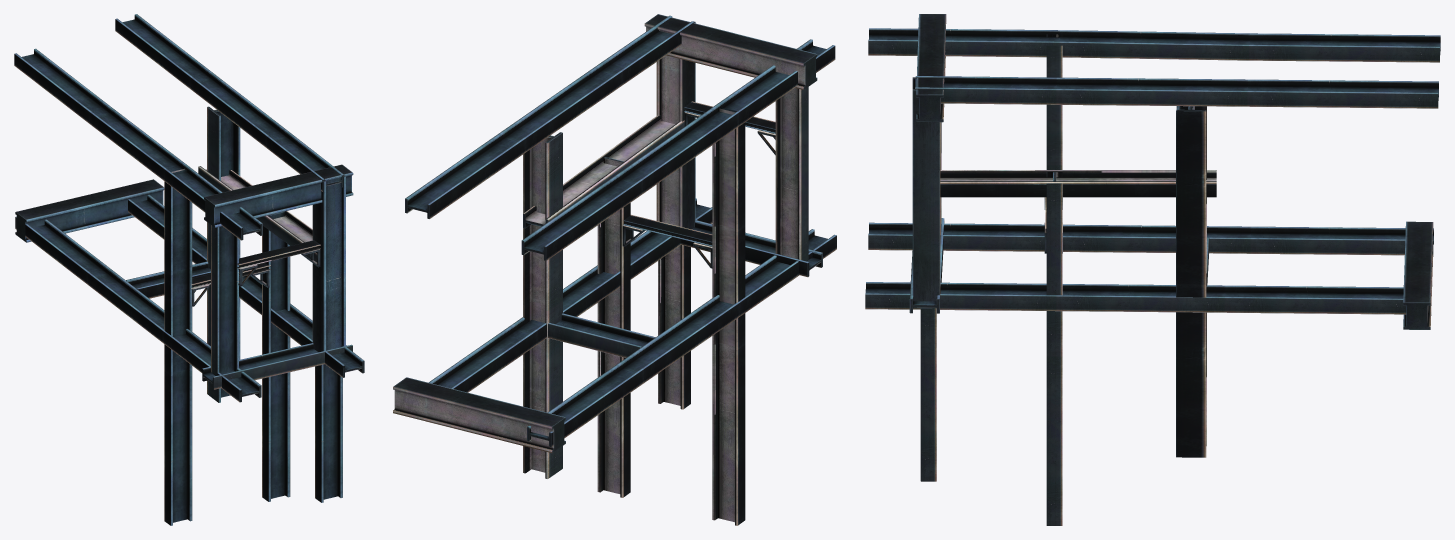
Rendered from beam_032.fbx.
3 views of the same model, side by side, from view 1: azimuth 30°, elevation 25°; view 2: azimuth 150°, elevation 25°; view 3: azimuth 270°, elevation 25° (orthographic). The views are drawn at different scales.
Parts seen in each view (by area): view 1: Combined_Mesh; view 2: Combined_Mesh; view 3: Combined_Mesh.
Part boxes in pixels (x1,y1,x2,y2): Combined_Mesh: [14, 14, 364, 525]; Combined_Mesh: [393, 14, 836, 525]; Combined_Mesh: [865, 14, 1440, 525].
Size of the model in its own units: 246 by 555 by 663.
